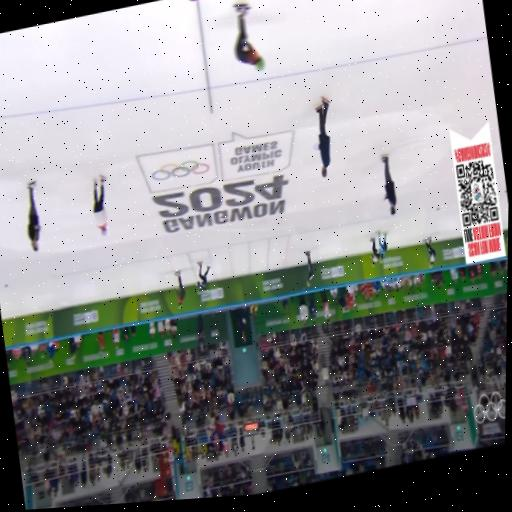Skater: (235, 3, 265, 70), (197, 260, 210, 293), (175, 270, 185, 308), (423, 237, 436, 266), (377, 231, 387, 261), (305, 250, 313, 285), (370, 237, 379, 265)
